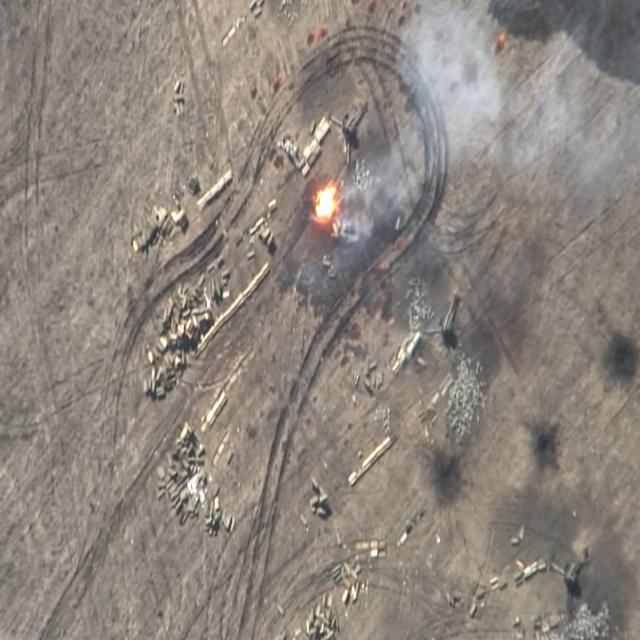cars: (335, 98, 369, 156), (303, 136, 321, 171), (313, 116, 331, 142)
